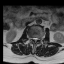CCS_normal: (34, 35, 36, 44)
LFS_stenosis: (38, 35, 40, 42)
LLS_normal: (36, 35, 38, 41)
RFS_normal: (30, 34, 32, 41)
RLS_normal: (32, 35, 34, 41)
